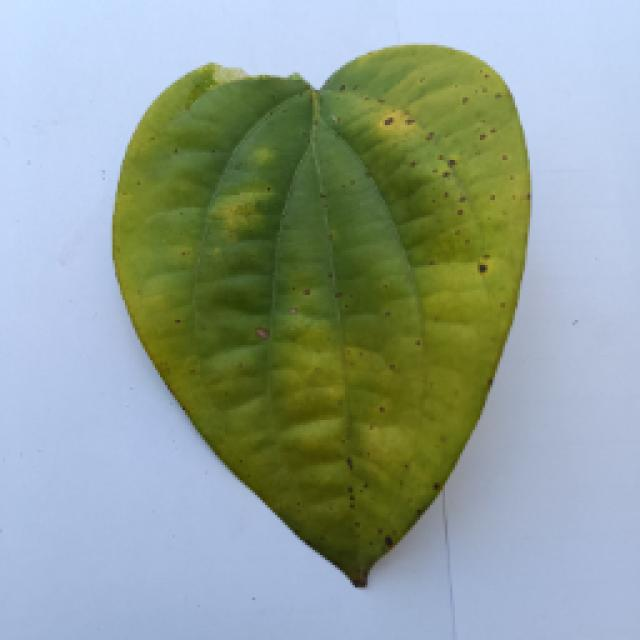slow-decline: (97, 50, 545, 590)
